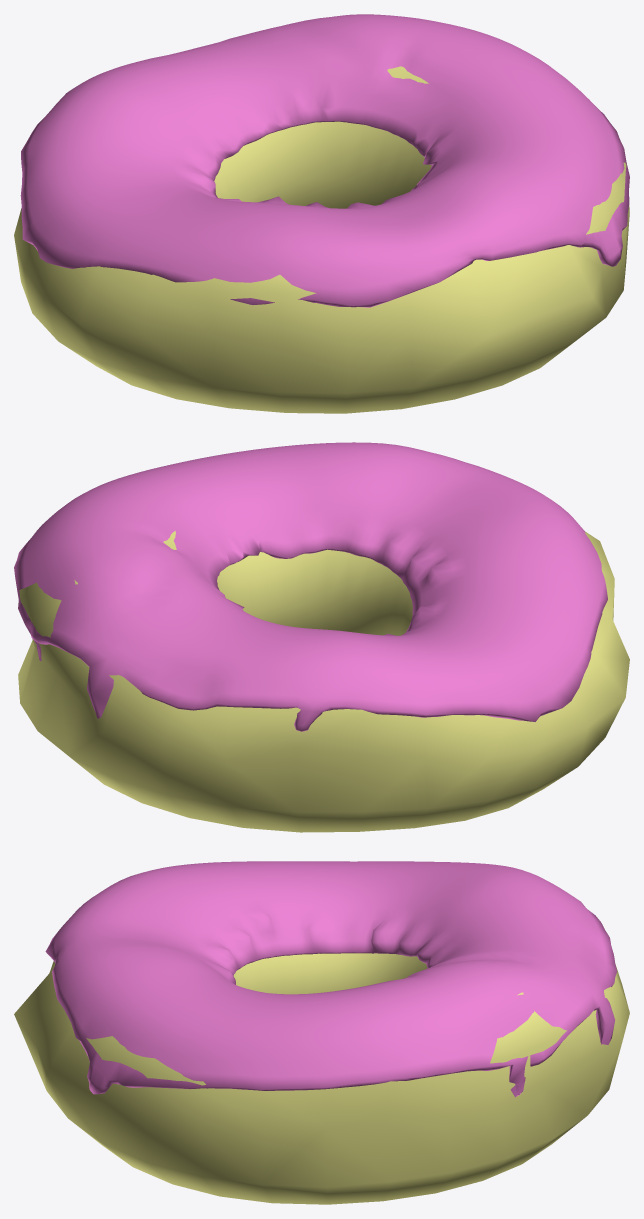
The model's file is donuto.glb.
The picture shows the model from 3 angles, top to bottom: view 1: azimuth 30°, elevation 25°; view 2: azimuth 150°, elevation 25°; view 3: azimuth 270°, elevation 25°; orthographic projection. The views are drawn at different scales.
Parts seen in each view (by area): view 1: Icing, Donut; view 2: Icing, Donut; view 3: Icing, Donut.
Boxes of the visible parts, box(x1,y1,x2,y2) form: Icing: box(20, 14, 629, 307); Donut: box(14, 66, 629, 413); Icing: box(14, 442, 607, 731); Donut: box(18, 531, 629, 832); Icing: box(45, 861, 617, 1097); Donut: box(14, 953, 629, 1204).
Size of what is drawn, in the model's own units: 0.1527 by 0.0591 by 0.1584.
